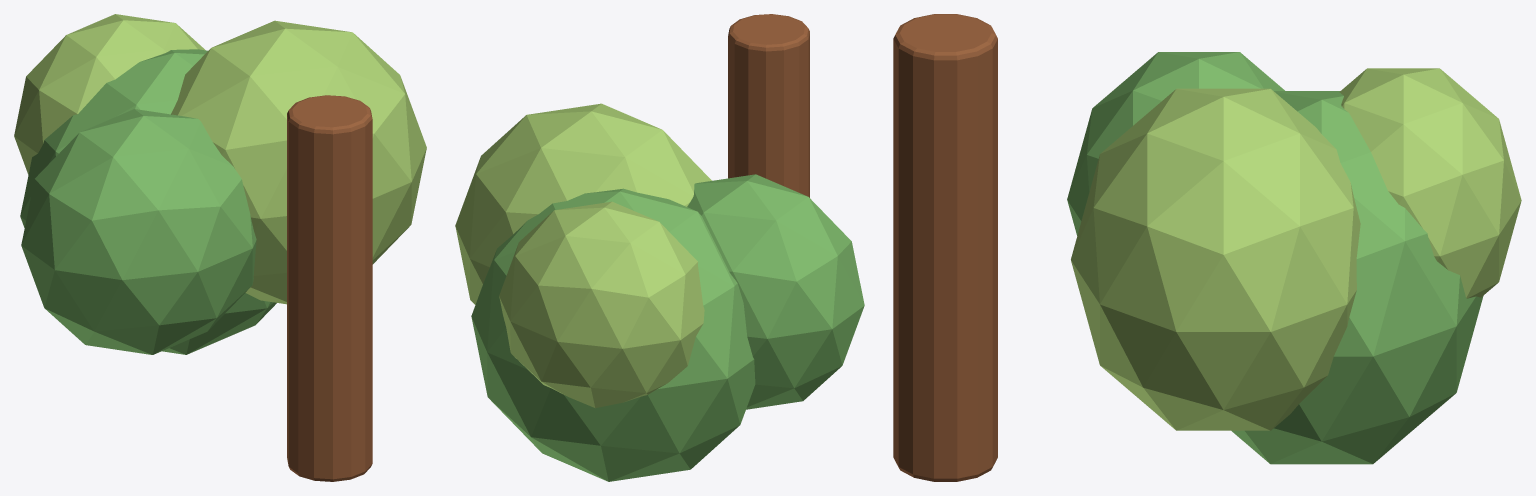
Rendered from CR_CampusTree.fbx.
3 views of the same model, side by side, from view 1: azimuth 30°, elevation 25°; view 2: azimuth 150°, elevation 25°; view 3: azimuth 270°, elevation 25° (orthographic). The views are drawn at different scales.
Visible parts, largest first — view 1: Leaf_Crown_0, Wood_Trunk, Leaf_Crown_1, Leaf_Crown_3, Leaf_Crown_2; view 2: Leaf_Crown_3, Leaf_Crown_2, Leaf_Crown_0, Leaf_Crown_1, Wood_Trunk; view 3: Leaf_Crown_1, Wood_Trunk, Leaf_Crown_2, Leaf_Crown_3, Leaf_Crown_0.
Boxes of the visible parts, x1,y1,x2,y2 form: Leaf_Crown_0: (21,109,256,354); Wood_Trunk: (287,95,372,481); Leaf_Crown_1: (171,20,426,304); Leaf_Crown_3: (14,14,205,174); Leaf_Crown_2: (20,49,276,354); Leaf_Crown_3: (499,201,704,408); Leaf_Crown_2: (471,188,755,481); Leaf_Crown_0: (687,174,864,409); Leaf_Crown_1: (455,103,711,304); Wood_Trunk: (728,14,809,197); Leaf_Crown_1: (1071,88,1360,430); Wood_Trunk: (893,14,997,481); Leaf_Crown_2: (1231,91,1483,464); Leaf_Crown_3: (1339,68,1521,298); Leaf_Crown_0: (1067,52,1284,235).
Bounding box in the file's own units: 3.25 × 2.9 × 3.84.
